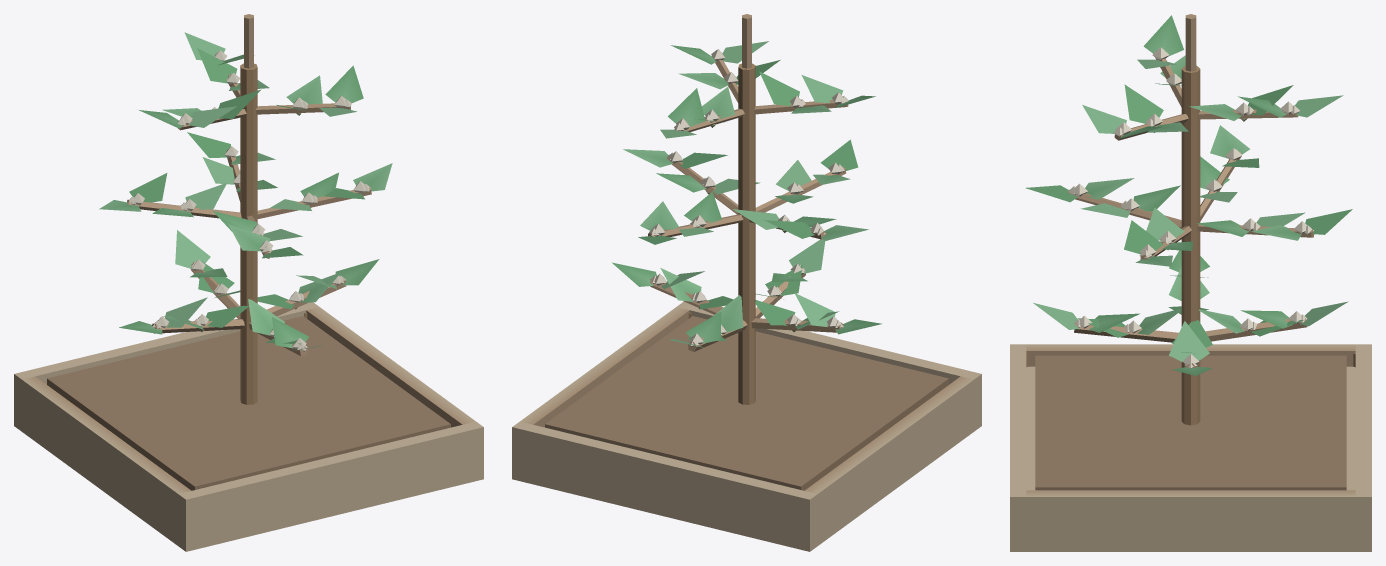
File: cafe_floracion_near.glb
The picture shows the model from 3 angles, left to right: view 1: azimuth 30°, elevation 25°; view 2: azimuth 150°, elevation 25°; view 3: azimuth 270°, elevation 25°; orthographic projection. The views are drawn at different scales.
Visible parts, largest first — view 1: model; view 2: model; view 3: model.
Part boxes in pixels (<box>): model: <box>14,14,483,551</box>; model: <box>512,14,981,551</box>; model: <box>1010,14,1371,551</box>.
Size of the model in its own units: 1 by 1.4 by 1.
